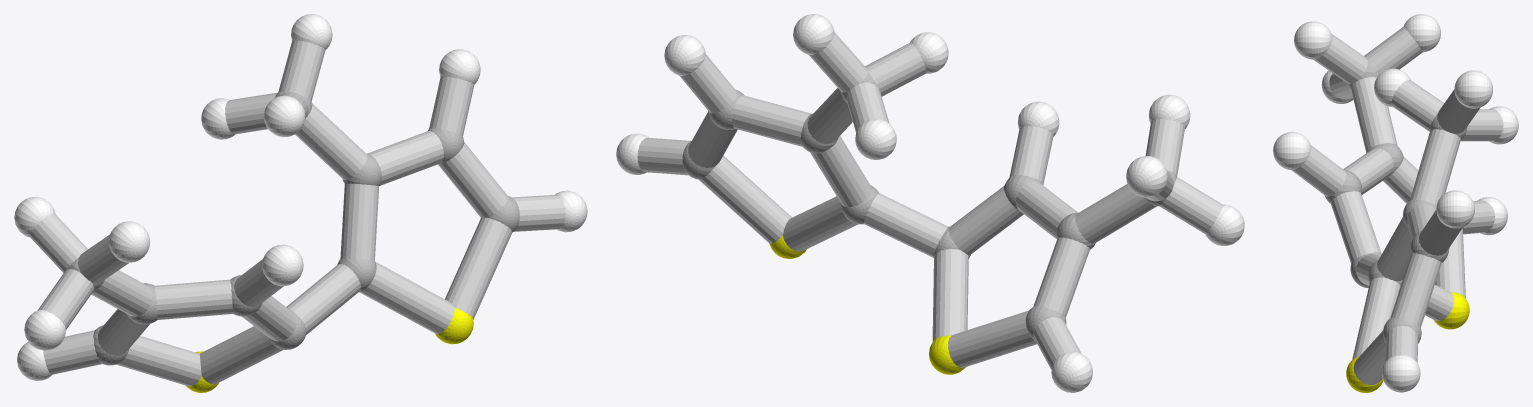
The model's file is Methylthiophene_Phi_40_Theta_120_Methylthiophene.glb.
3 views of the same model, side by side, from view 1: azimuth 30°, elevation 25°; view 2: azimuth 150°, elevation 25°; view 3: azimuth 270°, elevation 25° (orthographic). The views are drawn at different scales.
Parts seen in each view (by area): view 1: grp7965, grp3621, grp1, grp7241; view 2: grp7965, grp3621, grp1, grp7241; view 3: grp7965, grp3621, grp1, grp7241.
Boxes of the visible parts, box(x1,y1,x2,y2) form: grp7965: box(29, 40, 565, 386); grp3621: box(14, 14, 587, 380); grp1: box(67, 92, 519, 365); grp7241: box(185, 308, 473, 392); grp7965: box(637, 32, 1223, 369); grp3621: box(616, 14, 1244, 392); grp1: box(682, 70, 1176, 341); grp7241: box(769, 236, 965, 374); grp7965: box(1291, 26, 1503, 384); grp3621: box(1273, 14, 1518, 392); grp1: box(1324, 62, 1467, 343); grp7241: box(1346, 292, 1469, 392).
Size of the model in its own units: 9.8 by 5.33 by 3.81.
